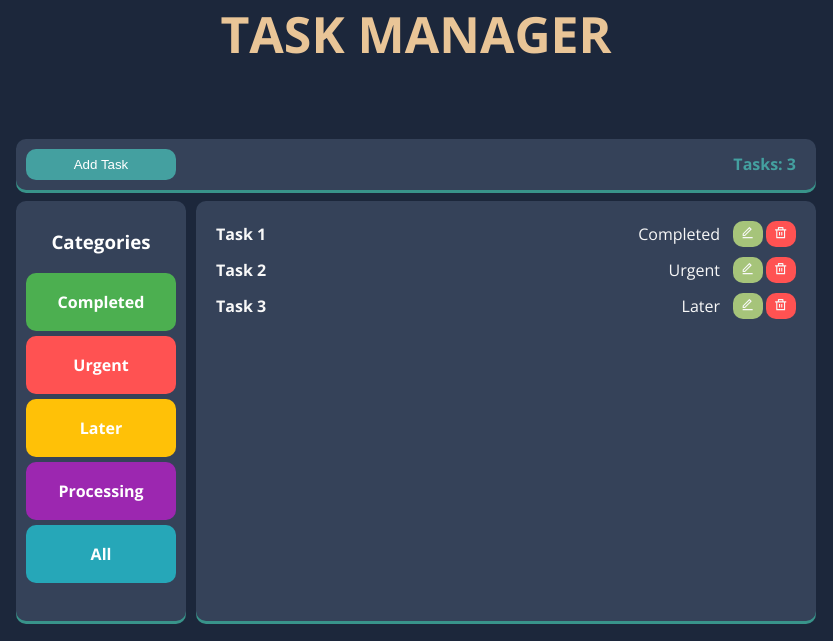
Test case: Content Component › should delete a task
The width and height of the screenshot is (833, 641).
Expected: the number of elements with class "task-item" is 3, [216,220,796,247]; [216,257,796,283]; [216,293,796,320]
Click the 2nd button with class "btn-delete" at (781, 270), box [766,257,796,283]
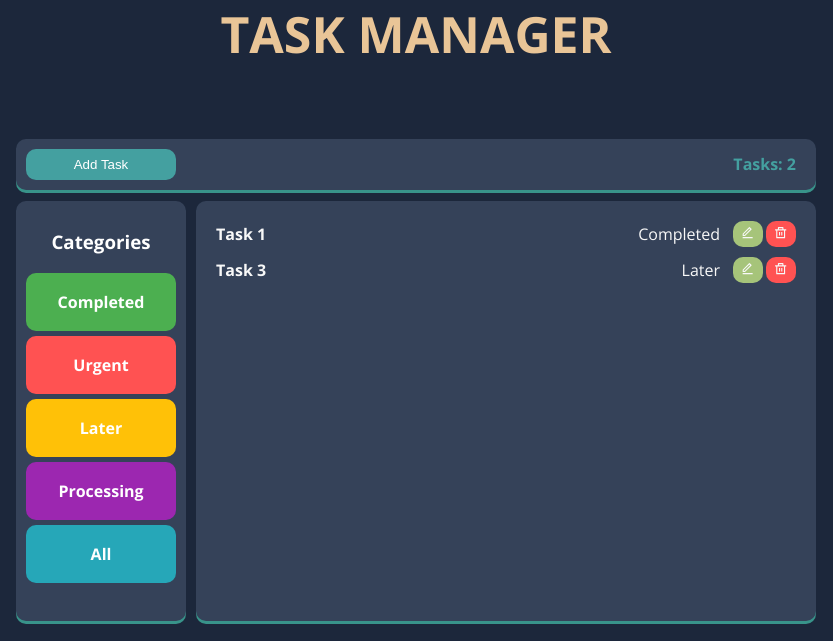
Expected: the number of elements with class "task-item" is 2, [216,220,796,247]; [216,257,796,283]
